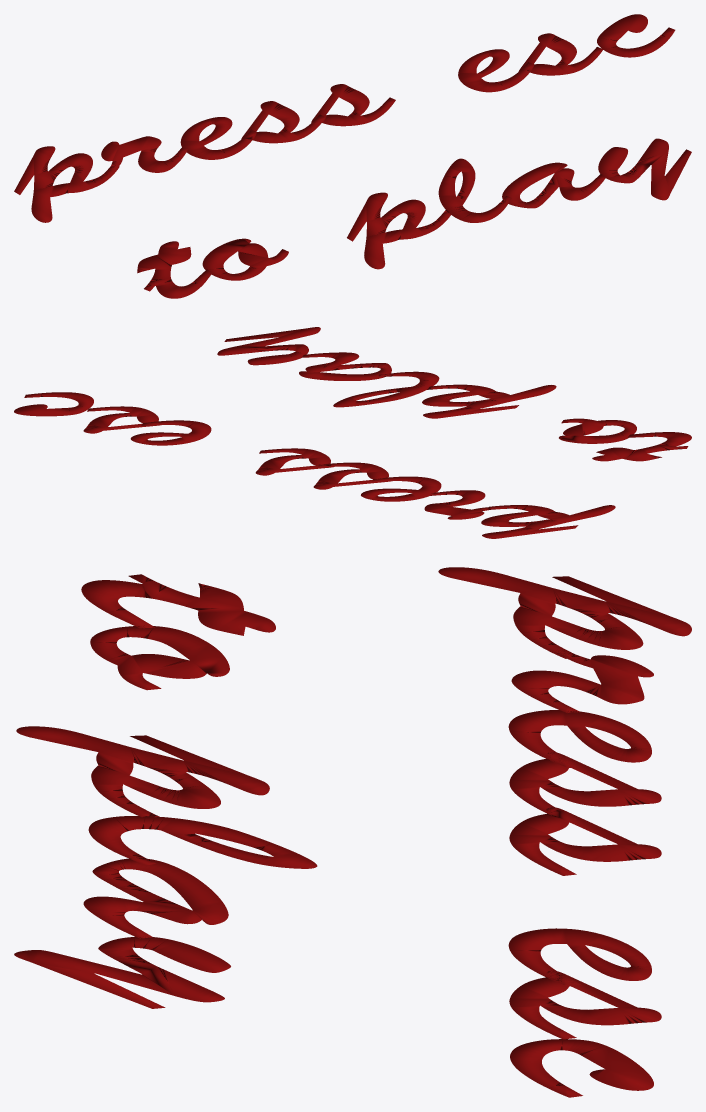
File: play.obj
The picture shows the model from 3 angles, top to bottom: view 1: azimuth 30°, elevation 25°; view 2: azimuth 150°, elevation 25°; view 3: azimuth 270°, elevation 25°; orthographic projection. The views are drawn at different scales.
Parts seen in each view (by area): view 1: TextPlus001; view 2: TextPlus001; view 3: TextPlus001.
Boxes of the visible parts, x1=… form: TextPlus001: x1=14, y1=14, x2=691, y2=298; TextPlus001: x1=14, y1=327, x2=691, y2=538; TextPlus001: x1=14, y1=567, x2=691, y2=1097.
Size of the model in its own units: 74.34 by 0.001 by 40.15.
